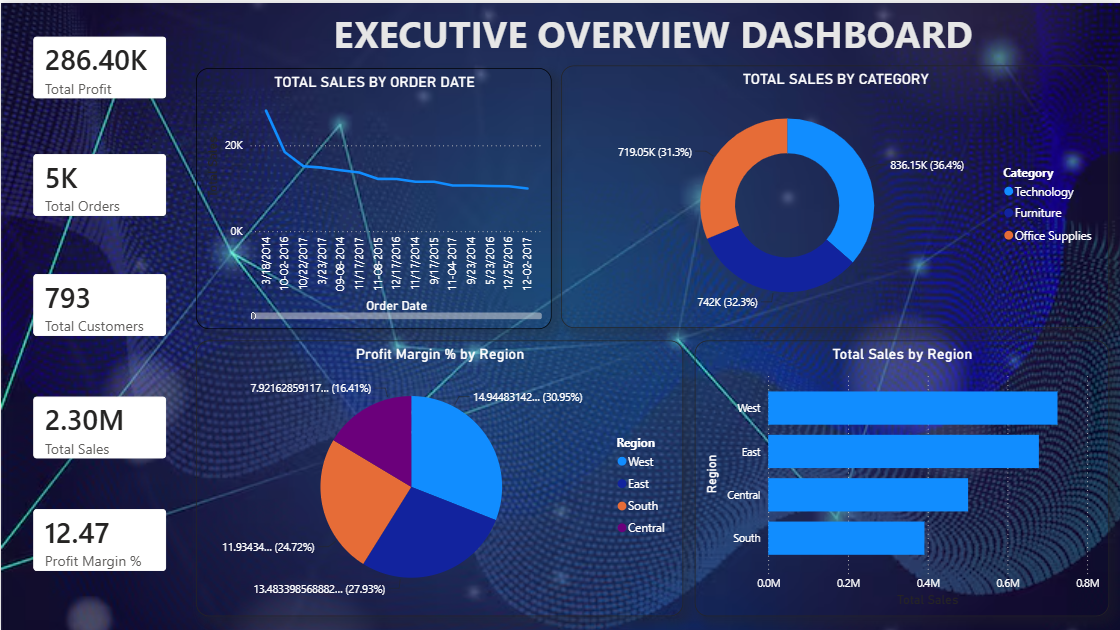

This screenshot's page, from the dashboard's own definition file:
{"tool":"powerbi","page":{"name":"Executive Summary","canvas":[1280,720],"ordinal":0},"visuals":[{"type":"cardVisual","fields":{"Data":["Superstore.Total Sales"]},"box":[19.6,432.3,186.8,105.4],"z":0},{"type":"cardVisual","fields":{"Data":["Superstore.Total Customers"]},"box":[19.6,292.2,186.8,105.4],"z":1000},{"type":"cardVisual","fields":{"Data":["Superstore.Total Orders"]},"box":[19.6,155.1,186.8,105.4],"z":2000},{"type":"cardVisual","fields":{"Data":["Superstore.Total Profit"]},"box":[19.6,21.1,186.8,105.4],"z":3000},{"type":"cardVisual","fields":{"Data":["Superstore.Profit Margin %"]},"box":[19.6,561.8,186.8,105.4],"z":4000},{"type":"textbox","box":[223.3,0,1056.7,71.7],"z":5000},{"type":"lineChart","title":"TOTAL SALES BY ORDER DATE","fields":{"Category":["Superstore.Order Date"],"Y":["Superstore.Total Sales"]},"box":[222.9,73.8,406.7,298.2],"z":6000},{"type":"donutChart","title":"TOTAL SALES BY CATEGORY","fields":{"Category":["Superstore.Category"],"Y":["Superstore.Total Sales"]},"box":[640,71.7,626.7,300],"z":7000},{"type":"clusteredBarChart","fields":{"Category":["Superstore.Region"],"Y":["Superstore.Total Sales"]},"box":[793.3,385,473.3,315],"z":8000},{"type":"pieChart","fields":{"Y":["Superstore.Profit Margin %"],"Category":["Superstore.Region"]},"box":[223.3,385,556.7,315],"z":9000}]}

Visuals, with their boxes in screenshot pixels (x1, y1, x2, y2), scaled from the page's 1280x720 canvas onto the 1120x630 screenshot:
cardVisual - Superstore.Total Sales: x1=17 y1=378 x2=181 y2=470
cardVisual - Superstore.Total Customers: x1=17 y1=256 x2=181 y2=348
cardVisual - Superstore.Total Orders: x1=17 y1=136 x2=181 y2=228
cardVisual - Superstore.Total Profit: x1=17 y1=18 x2=181 y2=111
cardVisual - Superstore.Profit Margin %: x1=17 y1=492 x2=181 y2=584
textbox: x1=195 y1=0 x2=1119 y2=63
"TOTAL SALES BY ORDER DATE" lineChart: x1=195 y1=65 x2=551 y2=326
"TOTAL SALES BY CATEGORY" donutChart: x1=560 y1=63 x2=1108 y2=325
clusteredBarChart - Superstore.Region x Superstore.Total Sales: x1=694 y1=337 x2=1108 y2=612
pieChart - Superstore.Profit Margin % x Superstore.Region: x1=195 y1=337 x2=682 y2=612
